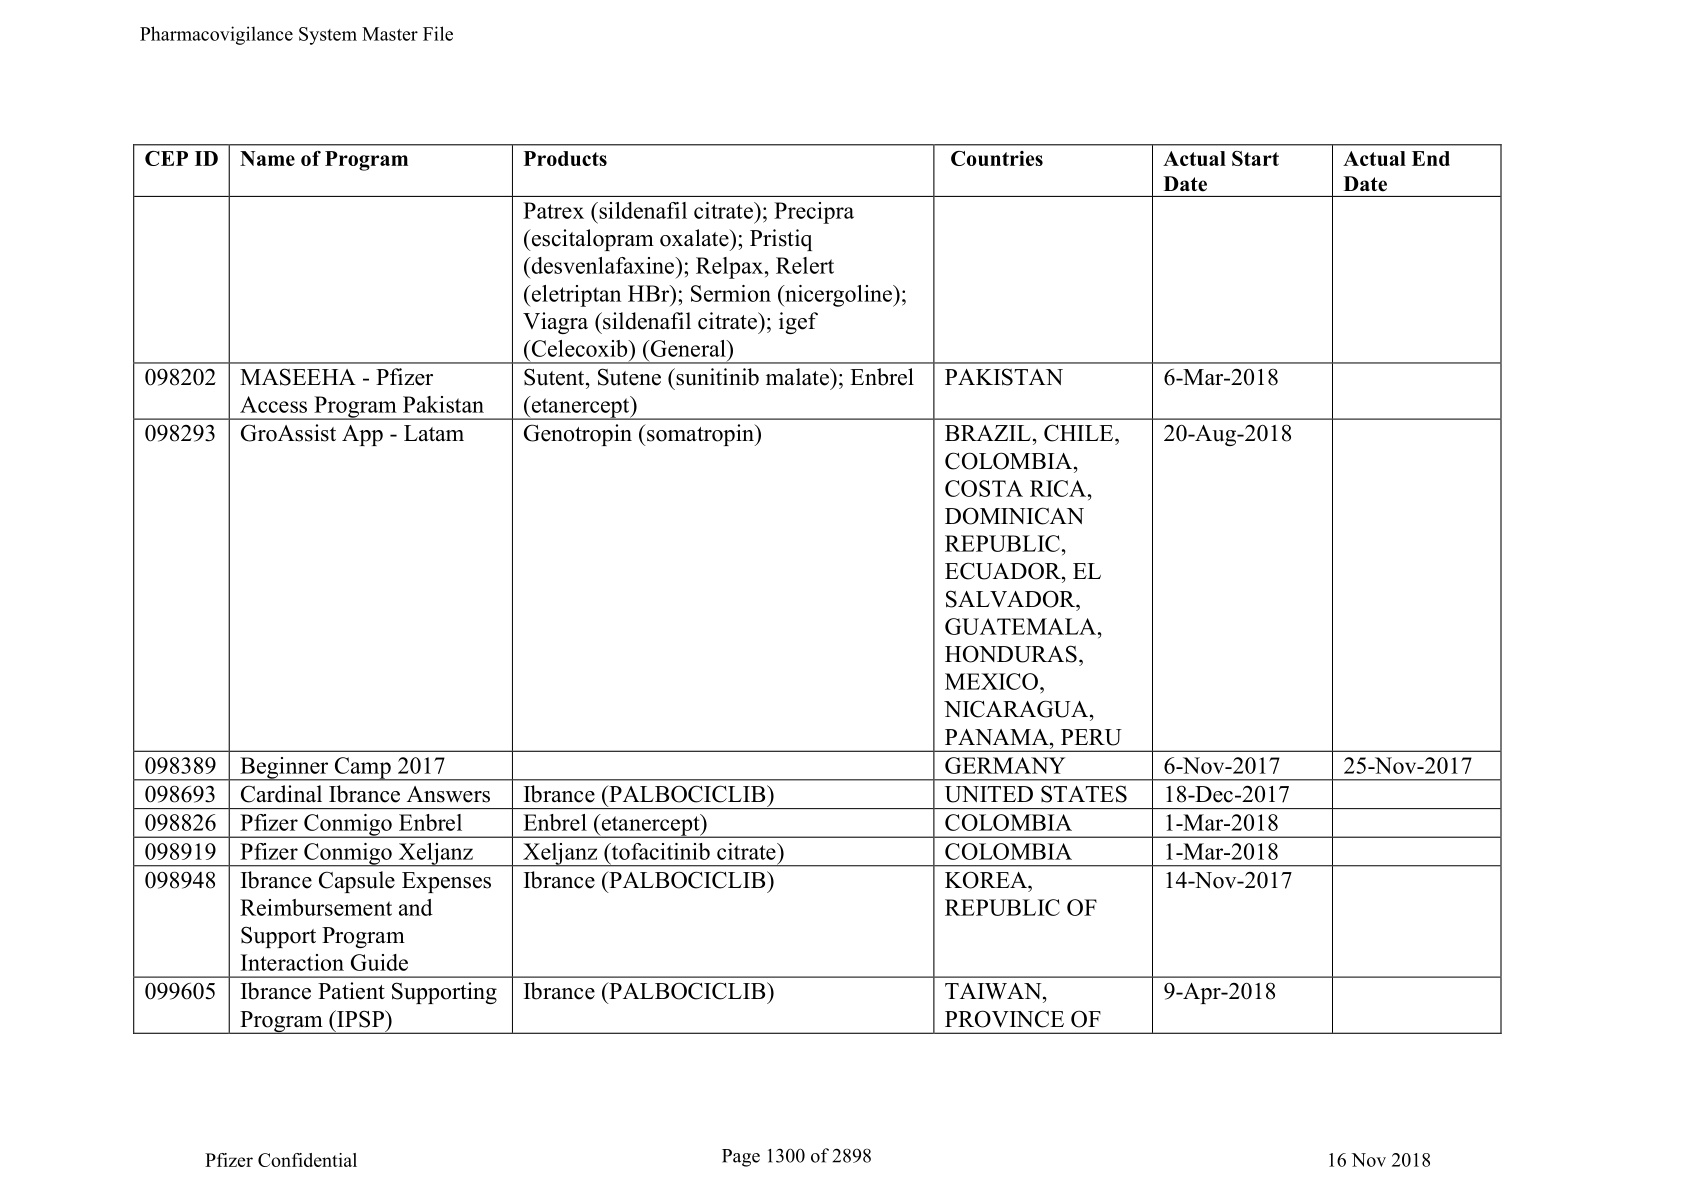full_lined: (131, 143, 1502, 1034)
